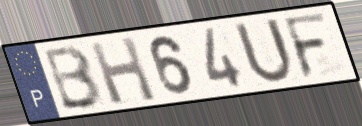4: (202, 25, 245, 91)
6: (148, 32, 195, 97)
B: (42, 43, 105, 112)
F: (281, 10, 331, 82)
H: (86, 34, 160, 107)
U: (231, 16, 297, 87)
